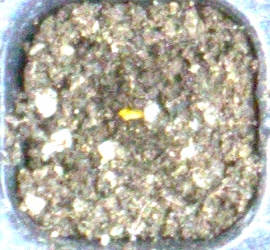pepper seed: (44, 45, 189, 168)
